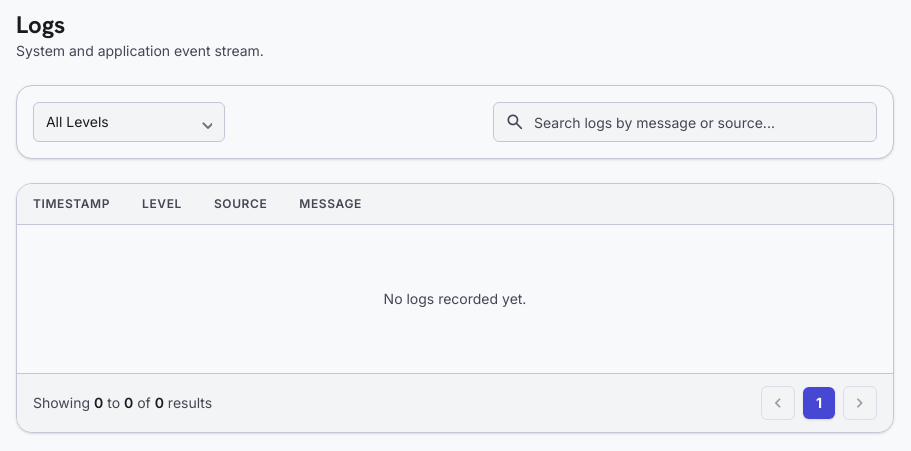
Test: LogsRoute › shows a filter-aware empty state when filters match nothing
Check: the text "No logs recorded yet." is shown, box [384,290,526,307]
In the search field with placeholder "Search logs by message or source...": (685, 122) [493,102,877,142], type "zzz"
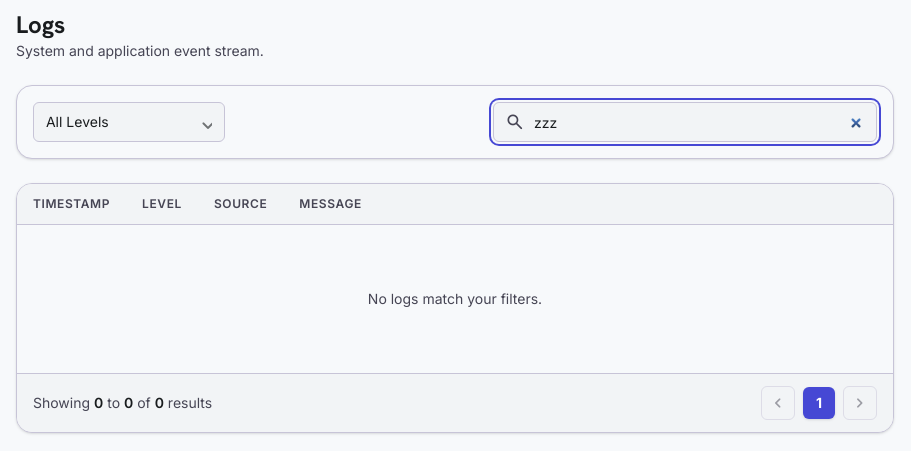
Check: the text "No logs match your filters." is shown, box [368,290,542,307]
